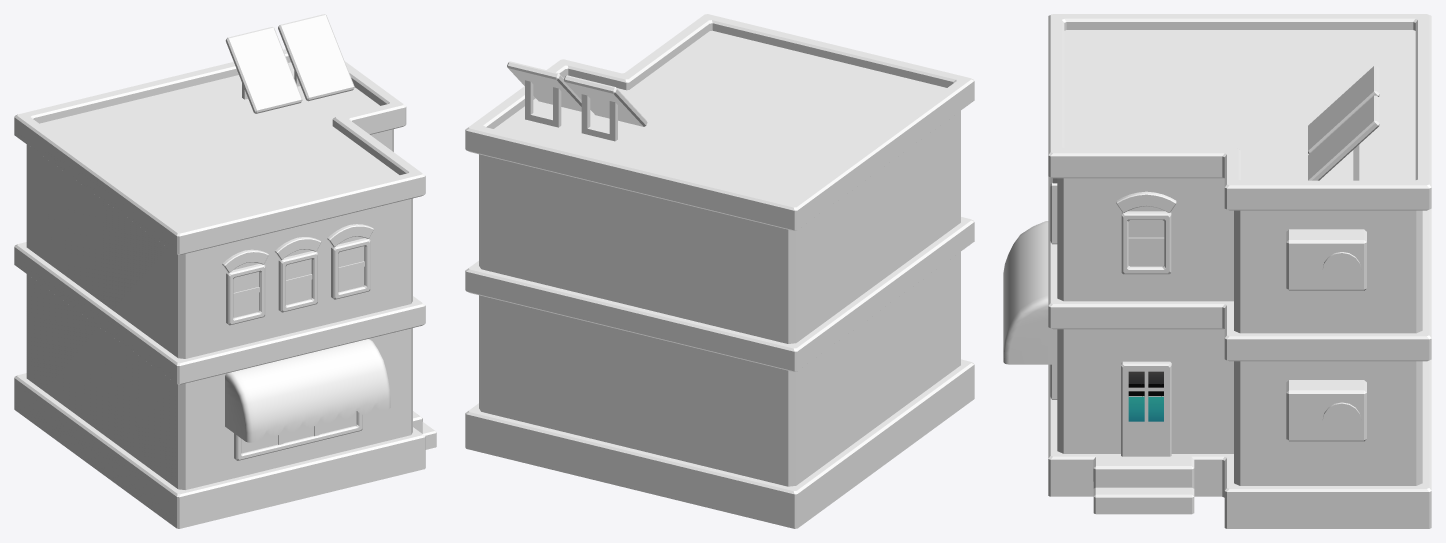
Rendered from House_10.fbx.
3 renders of one model, left to right at view 1: azimuth 30°, elevation 25°; view 2: azimuth 150°, elevation 25°; view 3: azimuth 270°, elevation 25°, orthographic. The views are drawn at different scales.
Parts seen in each view (by area): view 1: House_10; view 2: House_10; view 3: House_10.
Part boxes in pixels (<box>): House_10: <box>14,14,436,528</box>; House_10: <box>465,14,974,528</box>; House_10: <box>1003,14,1431,528</box>.
Bounding box in the file's own units: 611 × 622 × 607.
